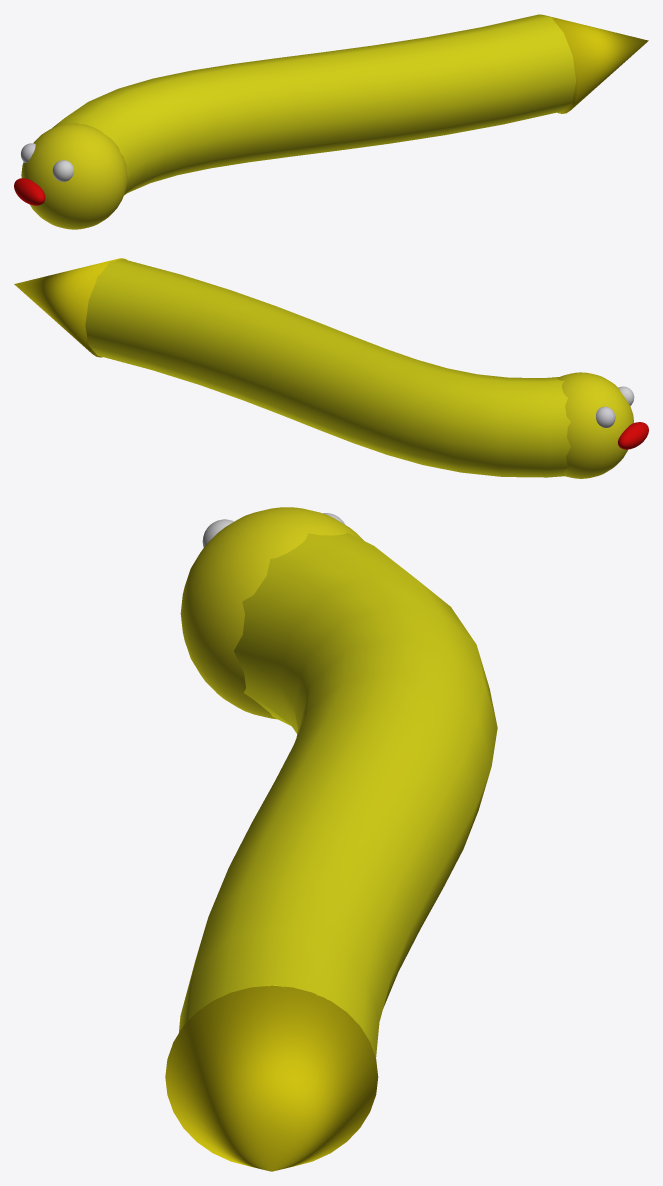
Rendered from SnakeYellow.obj.
3 views of the same model, one above another, from view 1: azimuth 30°, elevation 25°; view 2: azimuth 150°, elevation 25°; view 3: azimuth 270°, elevation 25° (orthographic). The views are drawn at different scales.
Visible parts, largest first — view 1: BézierCurve, Sphere, Cone, Sphere.003, Sphere.001; view 2: BézierCurve, Sphere, Cone, Sphere.003, Sphere.002; view 3: BézierCurve, Cone, Sphere.
Boxes of the visible parts, x1=… form: BézierCurve: x1=52, y1=14, x2=575, y2=195; Sphere: x1=21, y1=123, x2=127, y2=229; Cone: x1=541, y1=14, x2=648, y2=113; Sphere.003: x1=14, y1=178, x2=45, y2=205; Sphere.001: x1=52, y1=160, x2=73, y2=181; BézierCurve: x1=85, y1=259, x2=570, y2=477; Sphere: x1=558, y1=372, x2=633, y2=478; Cone: x1=14, y1=258, x2=126, y2=357; Sphere.003: x1=618, y1=422, x2=648, y2=449; Sphere.002: x1=596, y1=406, x2=615, y2=427; BézierCurve: x1=179, y1=532, x2=497, y2=1057; Cone: x1=165, y1=985, x2=378, y2=1171; Sphere: x1=180, y1=507, x2=363, y2=719.
Size of the model in its own units: 2.62 by 0.384 by 0.5994.
